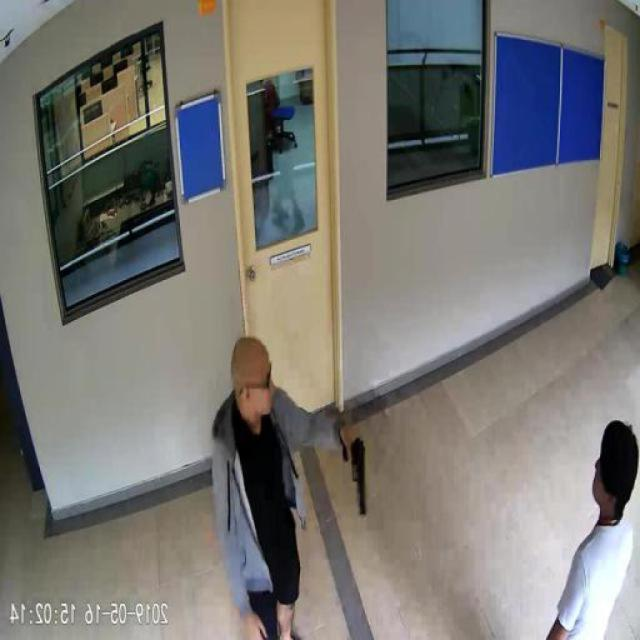pistol: (344, 431, 368, 514)
